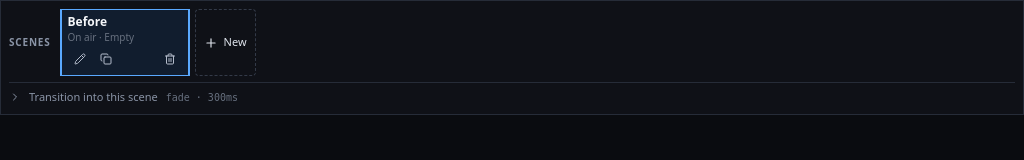
Test: SceneStrip › renames a scene without changing its id
Click the button named "Rename Before" at (80, 59), box [68,47,92,71]
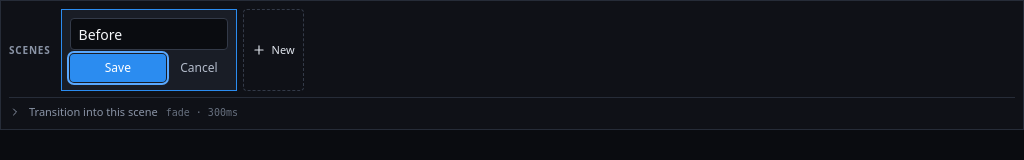
Replace the text in the field named "Scene name" with "After" at (148, 34), box [70,18,228,50]
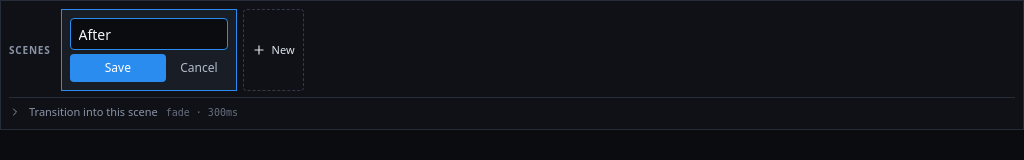
Click the button "Save" at (118, 68), box [70,54,166,82]
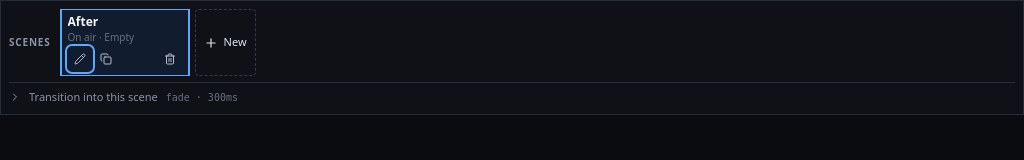
Now the text "After" is shown, box [68,13,98,30]
